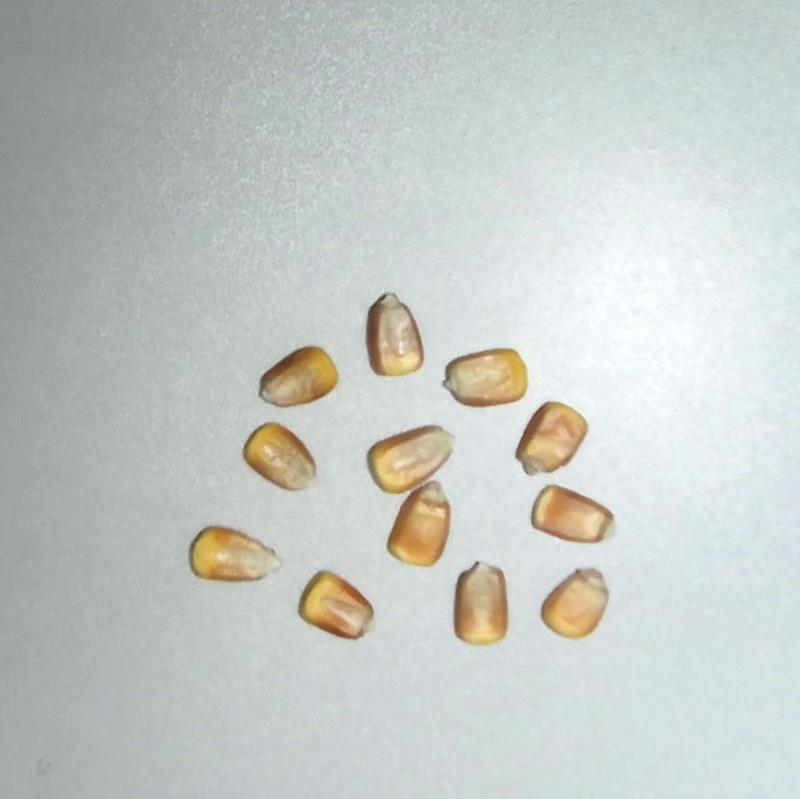corn: (360, 415, 466, 501), (290, 565, 389, 655), (236, 414, 333, 504), (507, 393, 594, 490), (534, 559, 625, 651), (383, 472, 463, 573), (249, 338, 344, 423), (526, 480, 623, 557), (357, 288, 427, 380), (440, 345, 531, 413), (188, 525, 285, 588), (454, 560, 509, 646)
